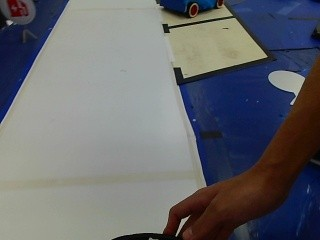battery: (0, 0, 35, 28)
